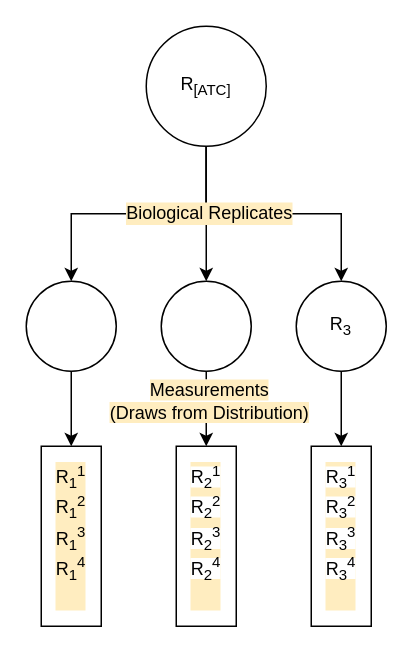
This 413x665 diagram has some shape labels left out. The shapes that lost their labels are listed below. From the top down, each one's box as (x1, y1, x2, y2) in pixels, then its label:
(25, 280, 116, 371): R 1
(160, 280, 251, 371): R 2
